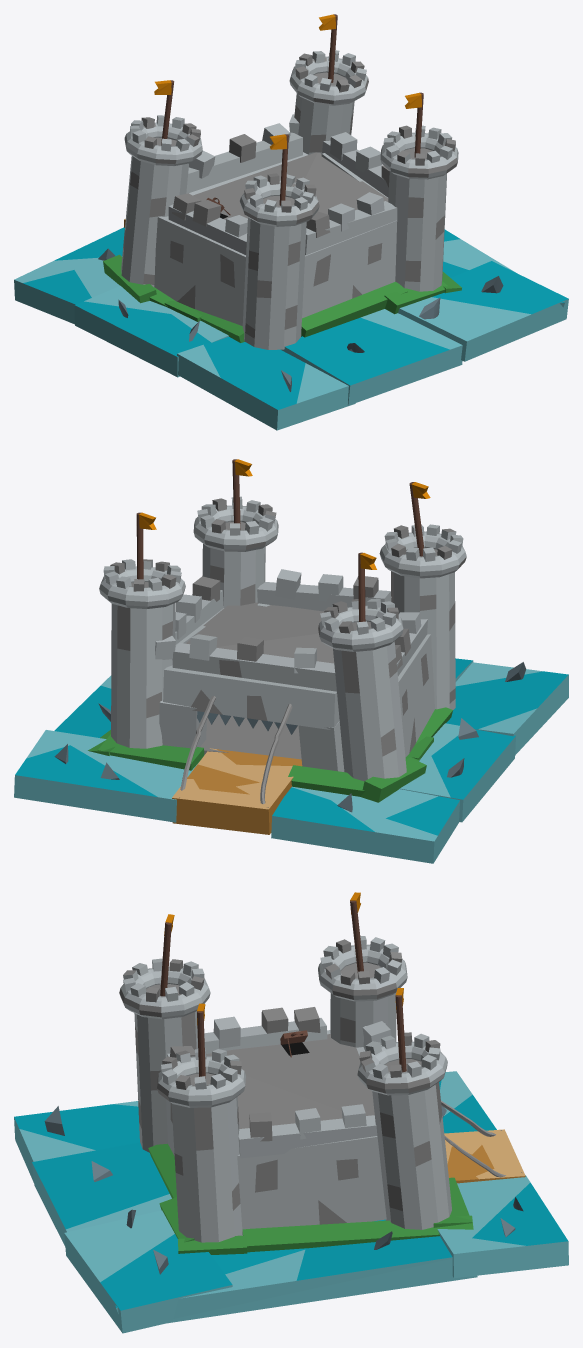
Rendered from Castle of cool guys.glb.
3 renders of one model, top to bottom at view 1: azimuth 30°, elevation 25°; view 2: azimuth 150°, elevation 25°; view 3: azimuth 270°, elevation 25°, orthographic. The views are drawn at different scales.
Parts seen in each view (by area): view 1: node_MeshObject-113123328-PolyPaper21, node_MeshObject1031034880-PolyPaper22; view 2: node_MeshObject-113123328-PolyPaper21, node_MeshObject1031034880-PolyPaper22; view 3: node_MeshObject-113123328-PolyPaper21, node_MeshObject1031034880-PolyPaper22.
Boxes of the visible parts, left/top/right/bottom form: node_MeshObject-113123328-PolyPaper21: left=14, top=14, right=564, bottom=430; node_MeshObject1031034880-PolyPaper22: left=23, top=137, right=568, bottom=391; node_MeshObject-113123328-PolyPaper21: left=14, top=459, right=568, bottom=863; node_MeshObject1031034880-PolyPaper22: left=54, top=522, right=525, bottom=835; node_MeshObject-113123328-PolyPaper21: left=14, top=892, right=568, bottom=1323; node_MeshObject1031034880-PolyPaper22: left=32, top=962, right=496, bottom=1333.
Bounding box in the file's own units: 1.99 × 1.13 × 2.06.
